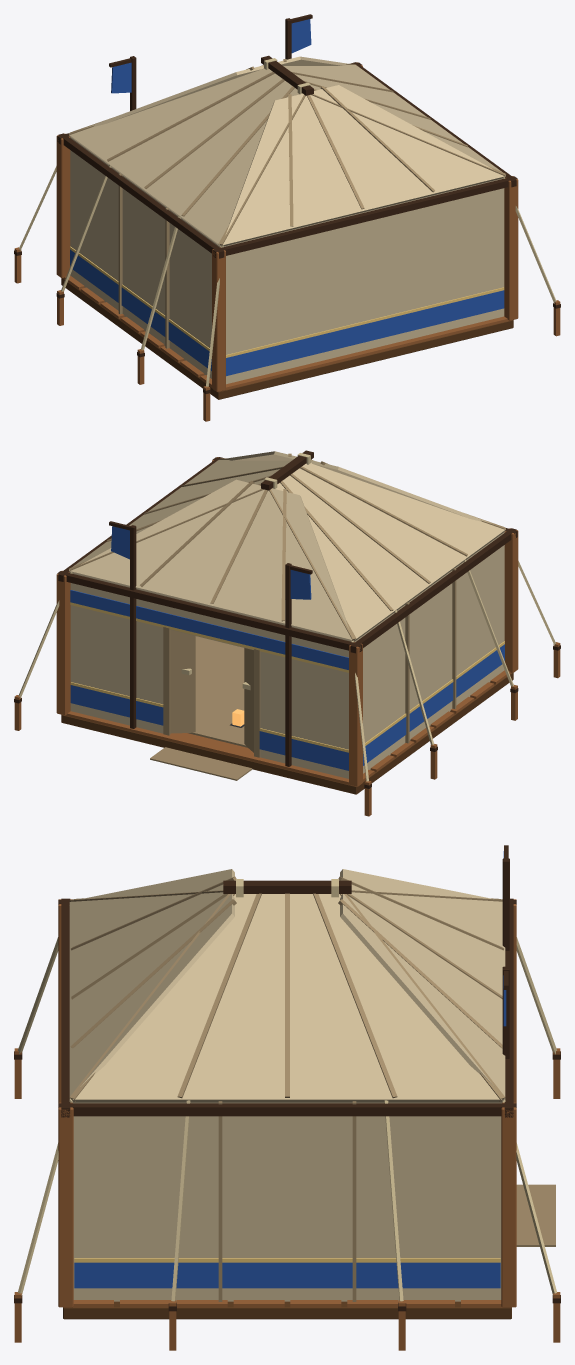
File: 豪华帐篷_低模.glb
The picture shows the model from 3 angles, top to bottom: view 1: azimuth 30°, elevation 25°; view 2: azimuth 150°, elevation 25°; view 3: azimuth 270°, elevation 25°; orthographic projection. The views are drawn at different scales.
Parts seen in each view (by area): view 1: BR-canvas, BR-wood_warm, BR-team, BR-wood_dark, BR-canvas_dark, BR-wood_mid, BR-site_rope, BR-team_trim; view 2: BR-canvas, BR-canvas_dark, BR-wood_warm, BR-team, BR-wood_dark, BR-wood_mid, BR-site_rope, BR-team_trim; view 3: BR-canvas, BR-canvas_dark, BR-wood_warm, BR-wood_dark, BR-team, BR-wood_mid, BR-site_rope, BR-team_trim.
Boxes of the visible parts, left/top/right/bottom form: BR-canvas: left=69, top=56, right=505, bottom=384; BR-wood_warm: left=14, top=62, right=560, bottom=421; BR-team: left=70, top=19, right=504, bottom=376; BR-wood_dark: left=14, top=14, right=560, bottom=393; BR-canvas_dark: left=69, top=59, right=505, bottom=348; BR-wood_mid: left=61, top=278, right=513, bottom=399; BR-site_rope: left=19, top=58, right=556, bottom=386; BR-team_trim: left=70, top=246, right=504, bottom=357; BR-canvas: left=69, top=451, right=505, bottom=778; BR-canvas_dark: left=69, top=453, right=505, bottom=780; BR-wood_warm: left=14, top=457, right=560, bottom=816; BR-team: left=70, top=526, right=504, bottom=770; BR-wood_dark: left=14, top=450, right=560, bottom=788; BR-wood_mid: left=61, top=673, right=513, bottom=794; BR-site_rope: left=18, top=453, right=556, bottom=781; BR-team_trim: left=70, top=602, right=504, bottom=752; BR-canvas: left=69, top=869, right=505, bottom=1301; BR-canvas_dark: left=69, top=876, right=555, bottom=1301; BR-wood_warm: left=14, top=899, right=560, bottom=1350; BR-wood_dark: left=14, top=845, right=560, bottom=1311; BR-team: left=74, top=851, right=506, bottom=1288; BR-wood_mid: left=63, top=1301, right=511, bottom=1319; BR-site_rope: left=18, top=879, right=556, bottom=1301; BR-team_trim: left=74, top=1258, right=500, bottom=1262.
Bounding box in the file's own units: 6.53 × 3.89 × 5.73.
